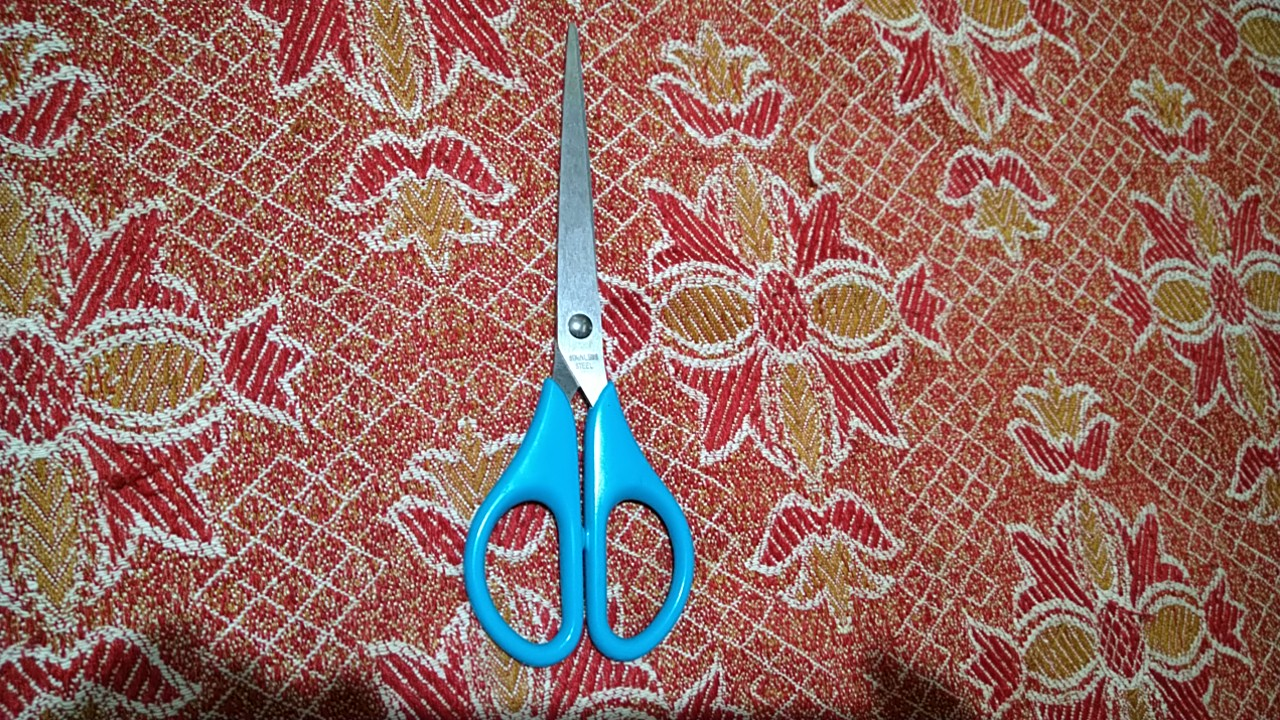scissor: (449, 15, 705, 674)
